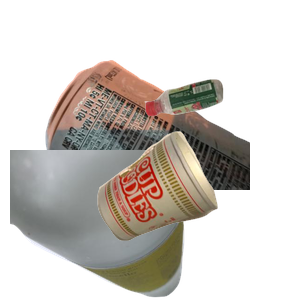glass: (10, 150, 190, 300)
metal: (43, 58, 283, 238)
plastic: (142, 77, 300, 186)
trash: (95, 129, 300, 300)
